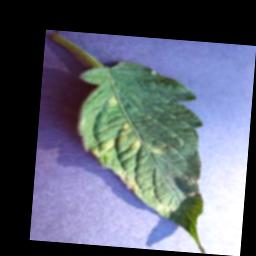Leaf_Mold: (112, 168, 141, 197), (88, 135, 115, 166), (117, 120, 133, 145), (106, 91, 118, 108), (131, 137, 141, 154)
